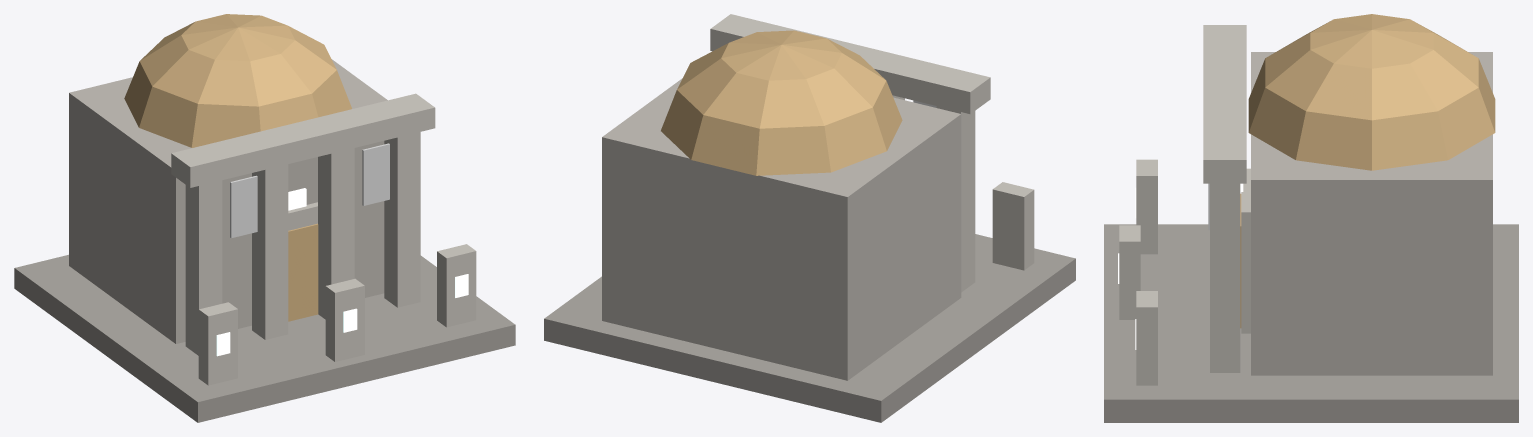
The picture shows the model from 3 angles, left to right: view 1: azimuth 30°, elevation 25°; view 2: azimuth 150°, elevation 25°; view 3: azimuth 270°, elevation 25°; orthographic projection. The views are drawn at different scales.
Parts seen in each view (by area): view 1: body; view 2: body; view 3: body.
Boxes of the visible parts, left/top/right/bottom form: body: left=14, top=14, right=515, bottom=422; body: left=544, top=14, right=1075, bottom=422; body: left=1104, top=14, right=1518, bottom=422.
Size of the model in its own units: 9.6 by 7.8 by 9.6.
